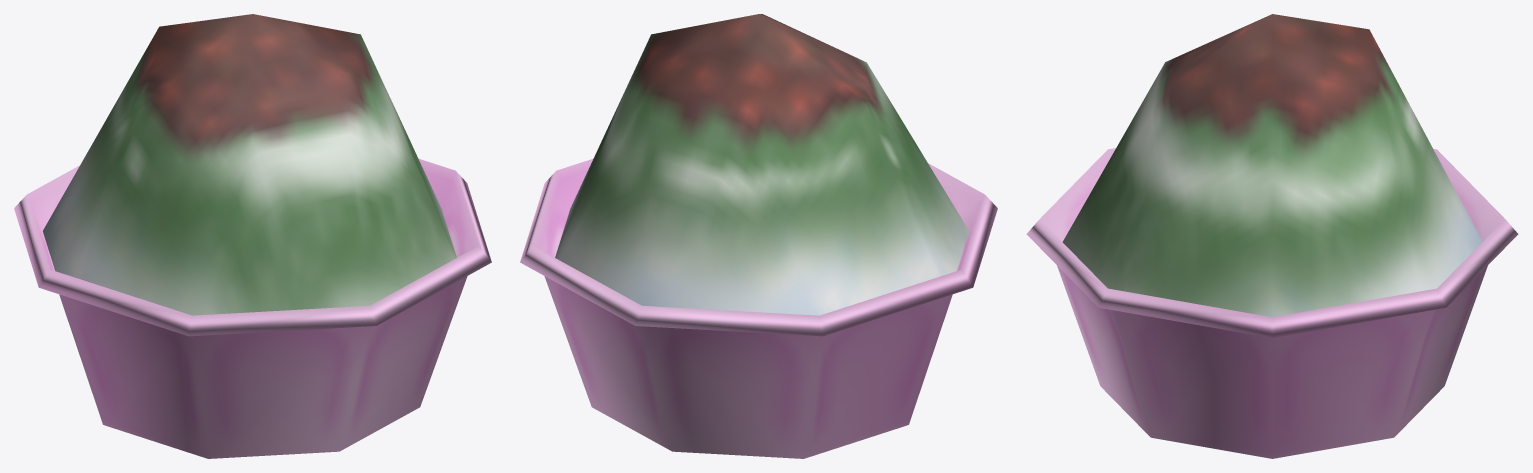
File: jsf_ShavedIce_02g.fbx
The picture shows the model from 3 angles, left to right: view 1: azimuth 30°, elevation 25°; view 2: azimuth 150°, elevation 25°; view 3: azimuth 270°, elevation 25°; orthographic projection.
Visible parts, largest first — view 1: jsf_ShavedIce_02g; view 2: jsf_ShavedIce_02g; view 3: jsf_ShavedIce_02g.
Boxes of the visible parts, box(x1,y1,x2,y2) form: jsf_ShavedIce_02g: box(14, 14, 491, 458); jsf_ShavedIce_02g: box(520, 14, 997, 458); jsf_ShavedIce_02g: box(1026, 14, 1518, 458).
Size of the model in its own units: 12 by 10.01 by 12.
